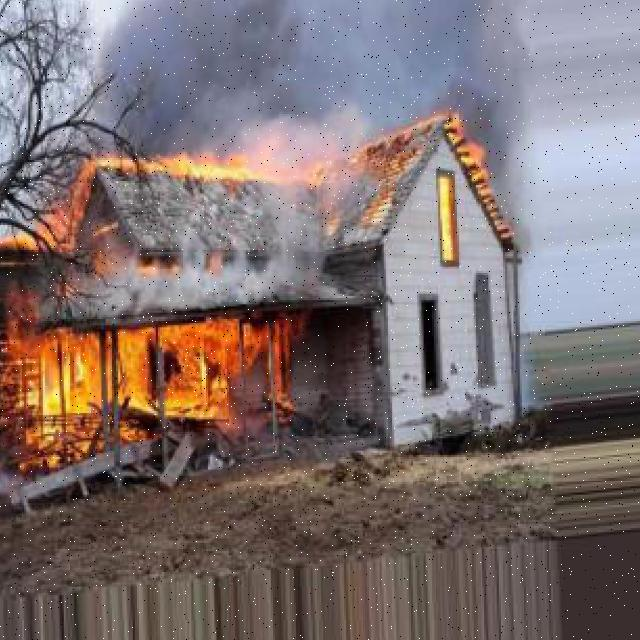fire: (7, 329, 300, 438), (95, 139, 256, 181), (436, 164, 461, 269)
smoke: (76, 0, 536, 157), (64, 218, 340, 312)
